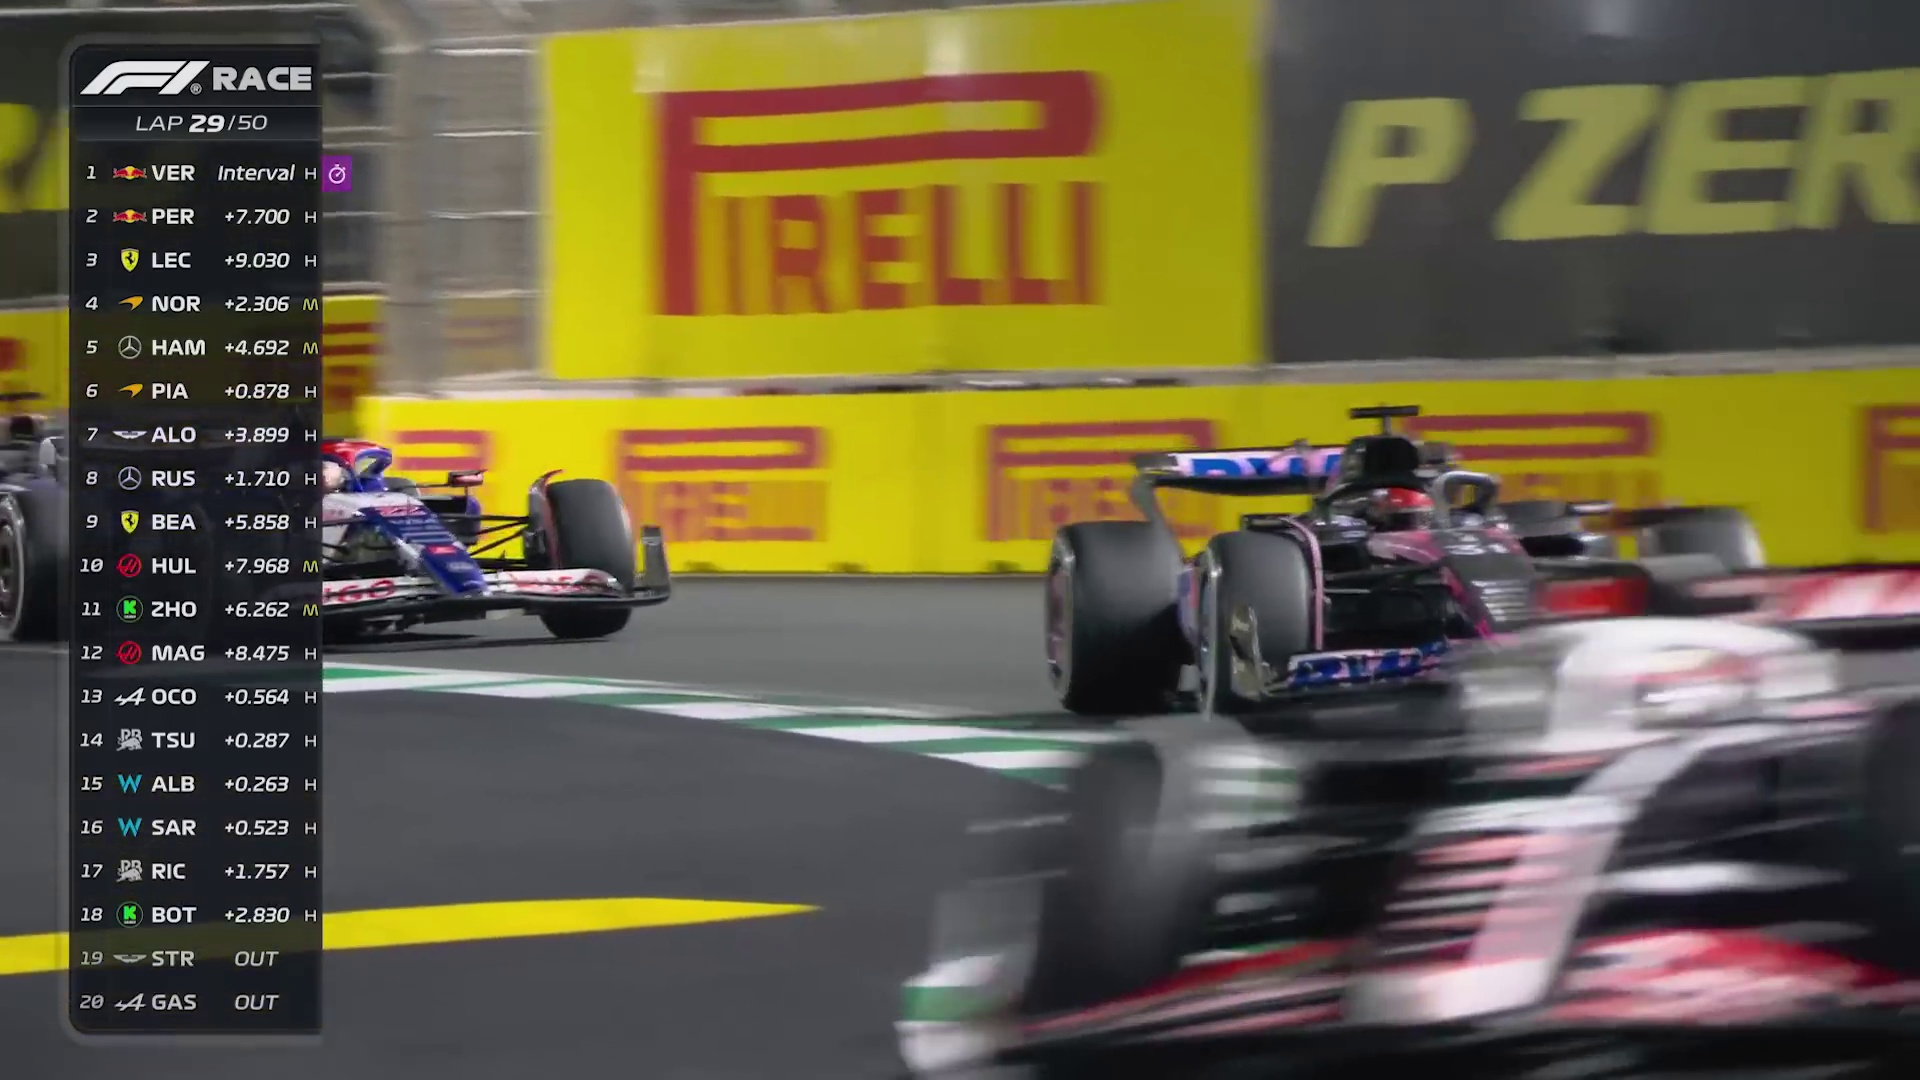Alpine: (1045, 449, 1732, 679)
Haas: (976, 604, 1920, 1060)
VisaRB: (322, 438, 672, 635)
